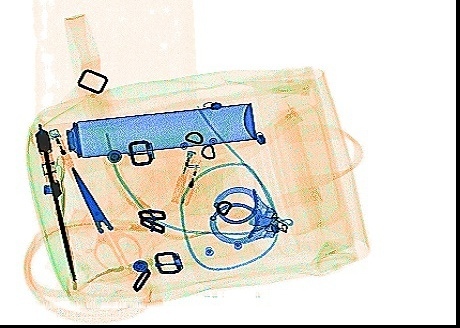handcuffs: (209, 185, 292, 245)
knife: (33, 119, 78, 283)
lighter: (167, 147, 202, 205), (46, 127, 73, 170)
pressure: (40, 100, 256, 160)
scissors: (69, 165, 141, 270)
